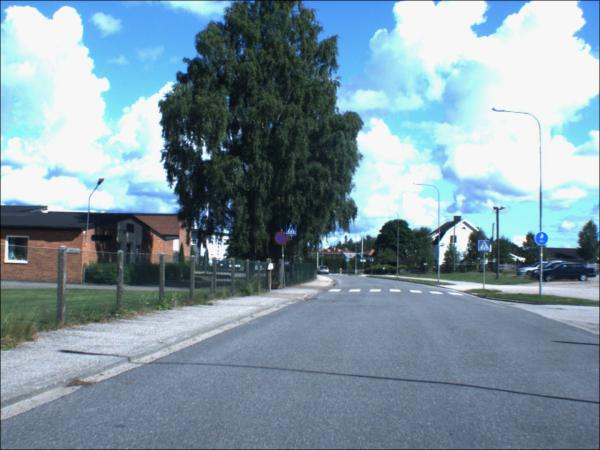NO_STOPPING_NO_STANDING: (274, 233, 288, 247)
PEDESTRIAN_CROSSING: (285, 224, 297, 238), (478, 242, 490, 254)
